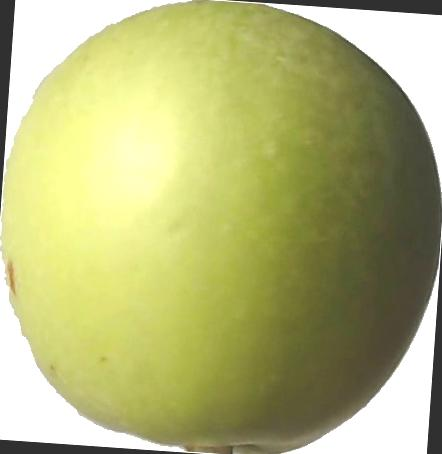Apple Unripe: (0, 0, 442, 454), (0, 0, 417, 351)
